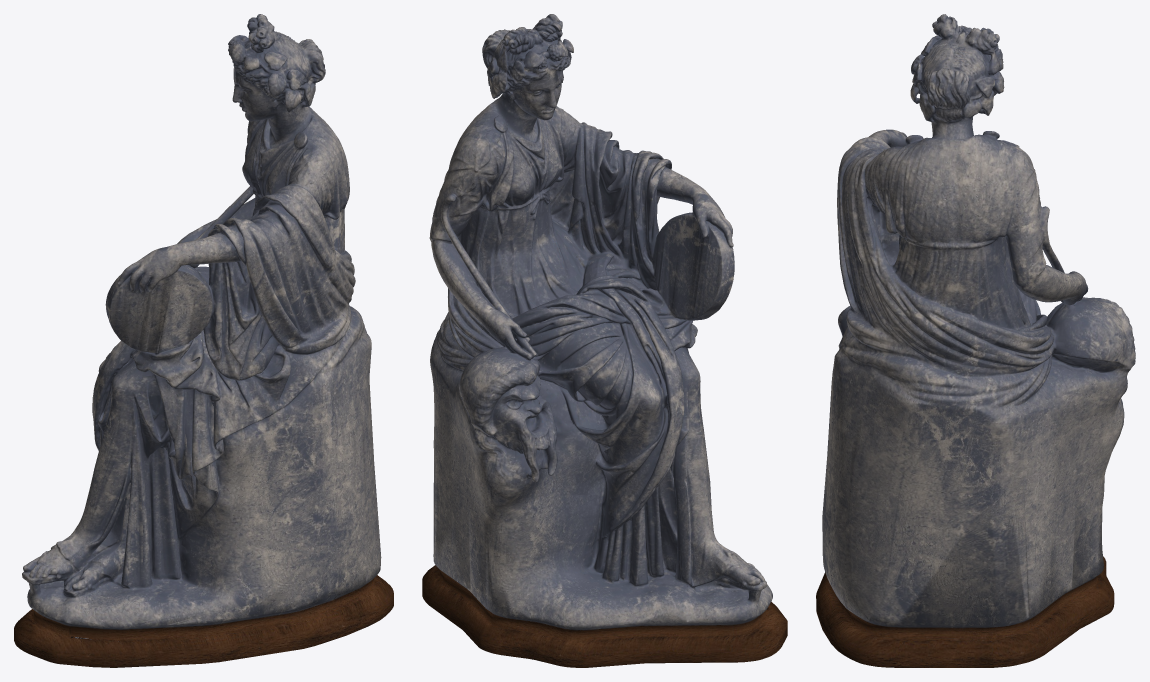
Rendered from statue-of-the-muse-thalia.glb.
The picture shows the model from 3 angles, left to right: view 1: azimuth 30°, elevation 25°; view 2: azimuth 150°, elevation 25°; view 3: azimuth 270°, elevation 25°; orthographic projection. The views are drawn at different scales.
Parts seen in each view (by area): view 1: Thalia_0; view 2: Thalia_0; view 3: Thalia_0.
Boxes of the visible parts, box(x1,y1,x2,y2) form: Thalia_0: box(14, 14, 393, 667); Thalia_0: box(422, 14, 787, 667); Thalia_0: box(816, 14, 1135, 667).
Bounding box in the file's own units: 1.18 × 1.93 × 0.9301.
Materials: 1 (1 with a texture image).
